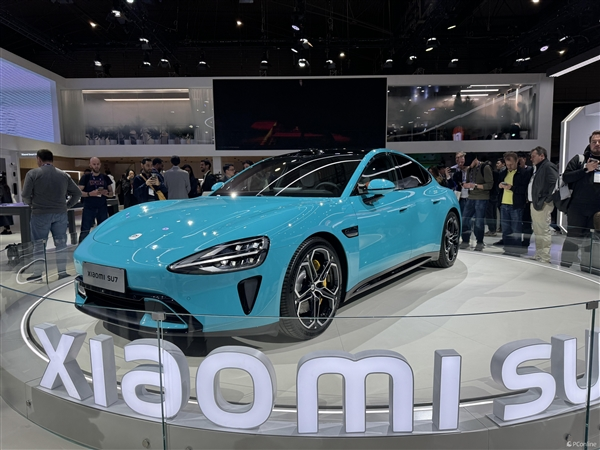su7: (80, 143, 450, 330)
